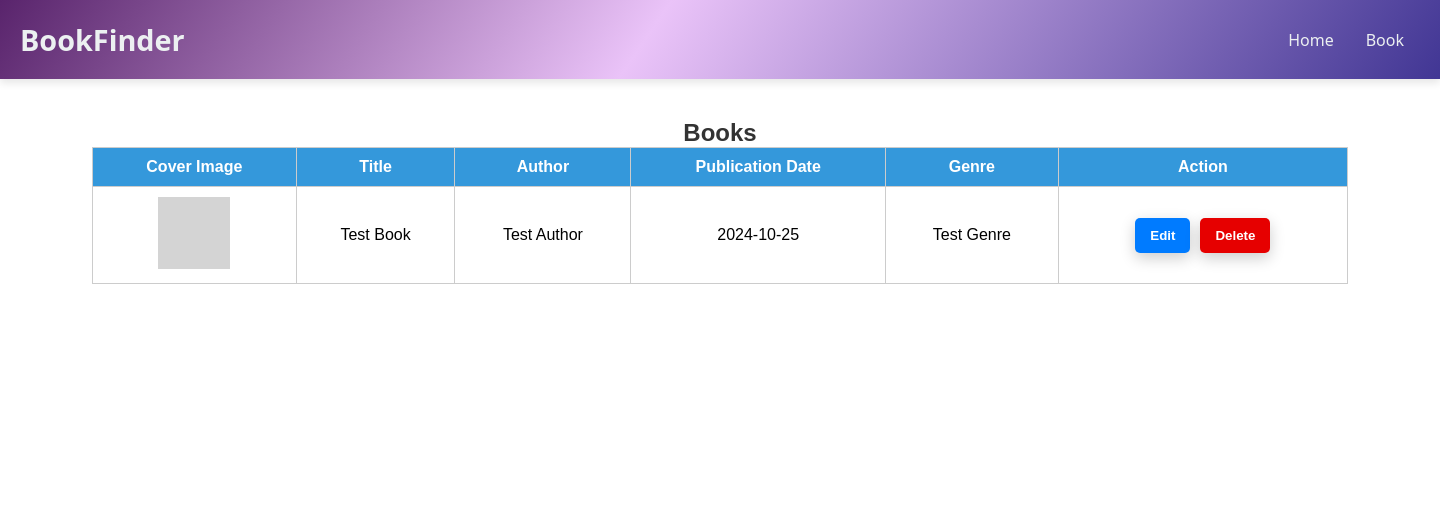
Test: ViewBook Component › frontend_viewbook_handlesDeleteConfirmation
This screenshot has width=1440, height=520.
What coordinates should you click on to do the following:
click the button "Delete"
I would click on:
 (1236, 235)
Its box is x1=1200 y1=218 x2=1270 y2=252.
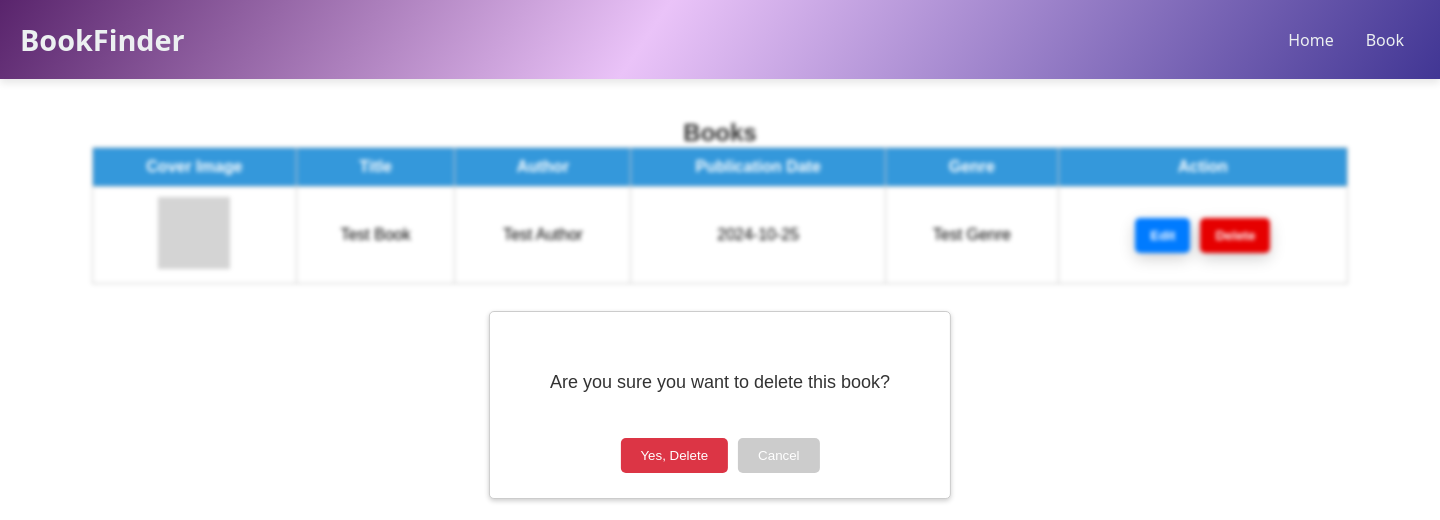
Now the text "Are you sure you want to delete this book?" is shown, box x1=550 y1=372 x2=890 y2=392
